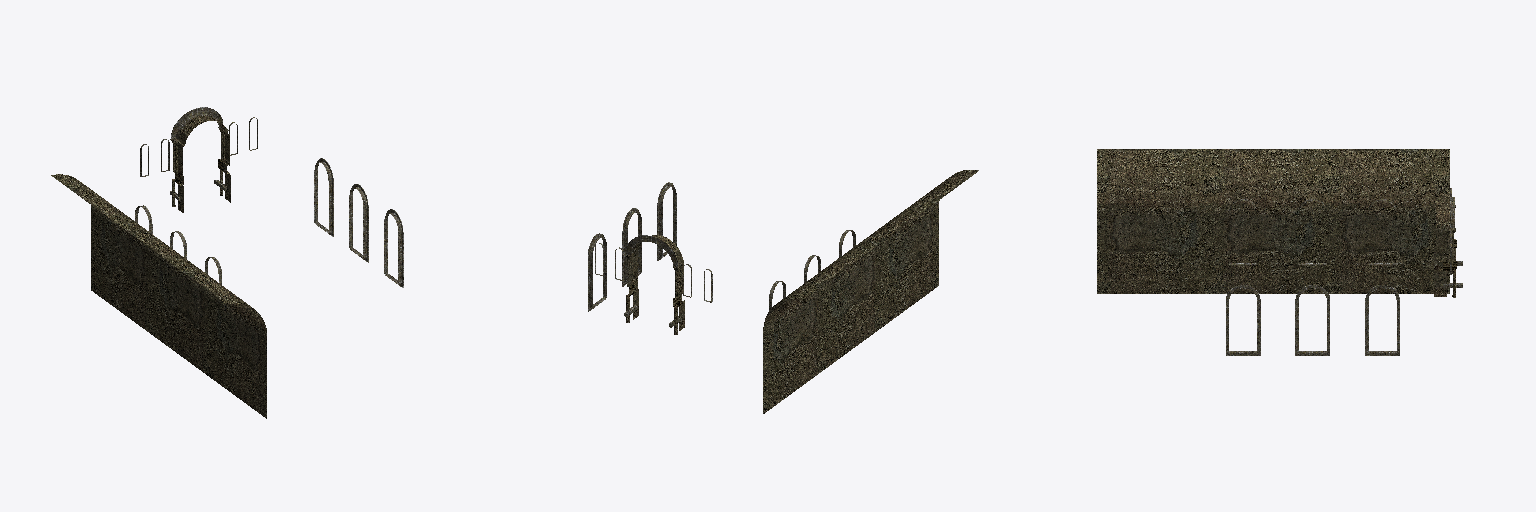
3 renders of one model, left to right at view 1: azimuth 30°, elevation 25°; view 2: azimuth 150°, elevation 25°; view 3: azimuth 270°, elevation 25°, orthographic.
Visible parts, largest first — view 1: mesh4, mesh0, mesh2, mesh1; view 2: mesh4, mesh0, mesh2, mesh1; view 3: mesh4, mesh0, mesh2, mesh1.
Part boxes in pixels (x1,y1,x2,y2): mesh4: (51, 174, 266, 418); mesh0: (135, 107, 403, 287); mesh2: (170, 115, 228, 206); mesh1: (178, 119, 230, 212); mesh4: (763, 170, 978, 413); mesh0: (588, 182, 855, 327); mesh2: (625, 236, 683, 334); mesh1: (633, 235, 684, 330); mesh4: (1097, 149, 1449, 293); mesh0: (1226, 188, 1462, 355); mesh2: (1441, 197, 1455, 297); mesh1: (1434, 197, 1446, 296).
Bounding box in the file's own units: 17.94 × 10.97 × 23.59.
Materials: 5 (3 with a texture image).